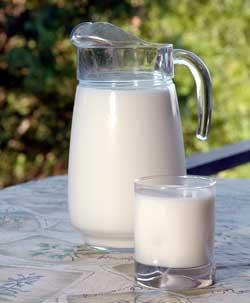produk_susu: (79, 84, 159, 172), (141, 179, 206, 283)
